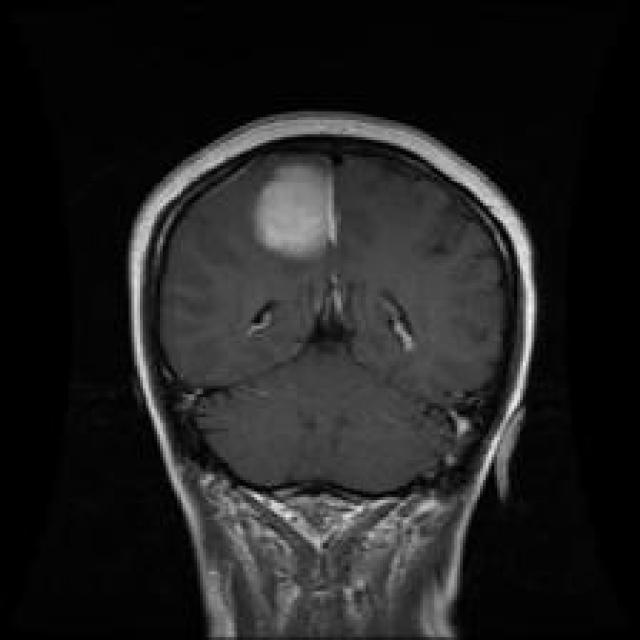meningioma_tumor: (242, 136, 353, 278)
